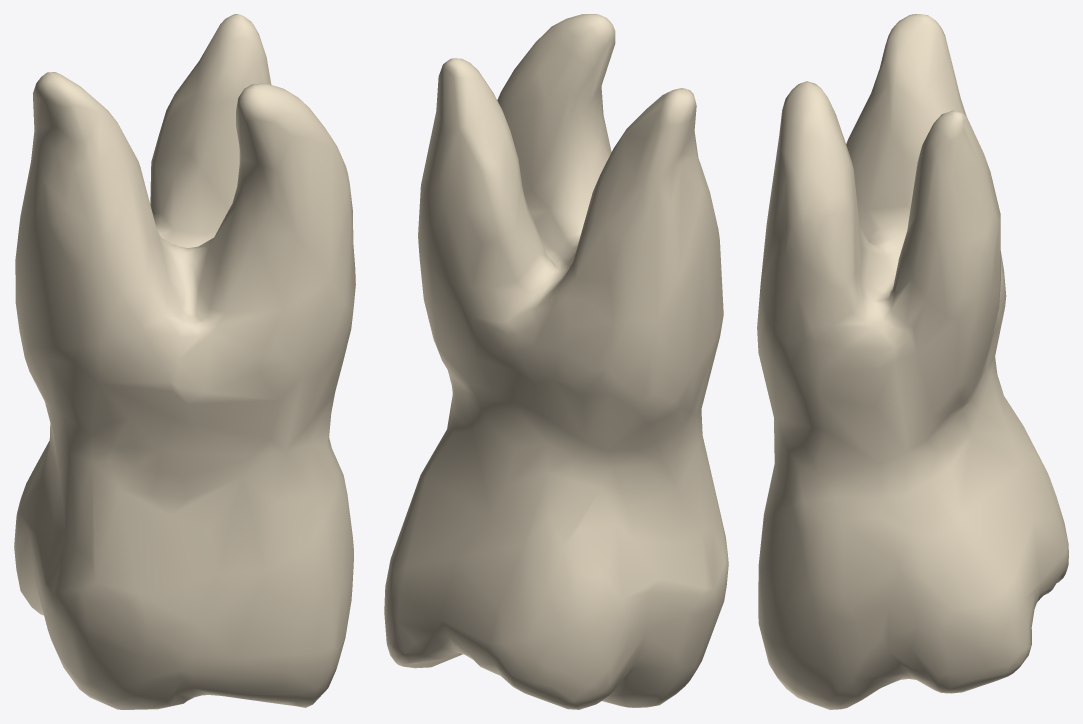
Rendered from upper-first-molar-tooth-l.glb.
3 renders of one model, left to right at view 1: azimuth 30°, elevation 25°; view 2: azimuth 150°, elevation 25°; view 3: azimuth 270°, elevation 25°, orthographic. The views are drawn at different scales.
Visible parts, largest first — view 1: Upper first molar tooth.l; view 2: Upper first molar tooth.l; view 3: Upper first molar tooth.l.
Boxes of the visible parts, x1,y1,x2,y2 form: Upper first molar tooth.l: [14, 14, 355, 709]; Upper first molar tooth.l: [384, 14, 728, 709]; Upper first molar tooth.l: [757, 14, 1068, 709].
Bounding box in the file's own units: 0.0113 × 0.024 × 0.0113.
